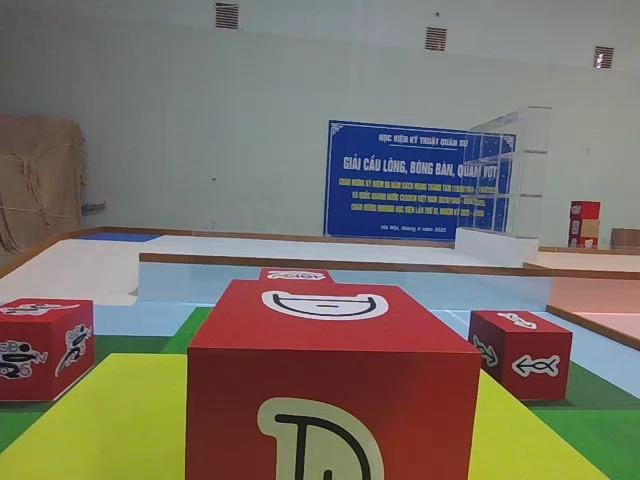R1: (0, 295, 93, 403)
R2 Real: (186, 279, 482, 480), (468, 309, 574, 403)
